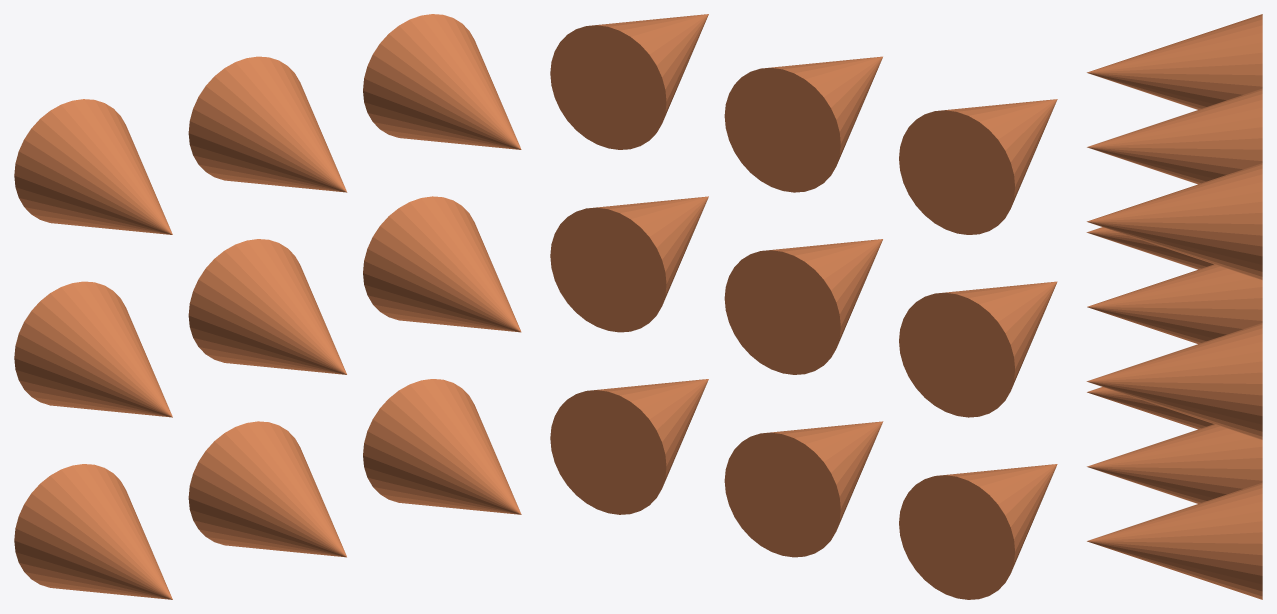
File: chili_grid.glb
The picture shows the model from 3 angles, left to right: view 1: azimuth 30°, elevation 25°; view 2: azimuth 150°, elevation 25°; view 3: azimuth 270°, elevation 25°; orthographic projection. The views are drawn at different scales.
Visible parts, largest first — view 1: geometry_5, geometry_2, geometry_3, geometry_6, geometry_7, geometry_8, geometry_0, geometry_4, geometry_1; view 2: geometry_3, geometry_6, geometry_0, geometry_1, geometry_2, geometry_5, geometry_8, geometry_4, geometry_7; view 3: geometry_7, geometry_6, geometry_8, geometry_2, geometry_5, geometry_4, geometry_3, geometry_1, geometry_0.
Part boxes in pixels (x1,y1,x2,y2): geometry_5: (188, 56, 347, 192); geometry_2: (14, 99, 172, 234); geometry_3: (188, 421, 346, 557); geometry_6: (363, 379, 521, 514); geometry_7: (363, 196, 521, 332); geometry_8: (363, 14, 521, 149); geometry_0: (14, 464, 172, 599); geometry_4: (188, 239, 346, 374); geometry_1: (14, 281, 172, 417); geometry_3: (724, 421, 883, 557); geometry_6: (550, 379, 708, 514); geometry_0: (899, 464, 1057, 599); geometry_1: (899, 281, 1057, 417); geometry_2: (899, 99, 1057, 234); geometry_5: (724, 56, 882, 192); geometry_8: (550, 14, 708, 149); geometry_4: (724, 239, 882, 374); geometry_7: (550, 196, 708, 332); geometry_7: (1086, 323, 1262, 439); geometry_6: (1087, 482, 1262, 599); geometry_8: (1087, 163, 1262, 280); geometry_2: (1087, 14, 1262, 109); geometry_5: (1087, 88, 1262, 184); geometry_4: (1087, 264, 1262, 343); geometry_3: (1087, 424, 1262, 503); geometry_1: (1086, 227, 1213, 269); geometry_0: (1087, 387, 1213, 429).
Size of the model in its own units: 0.8 by 0.8 by 0.3.
